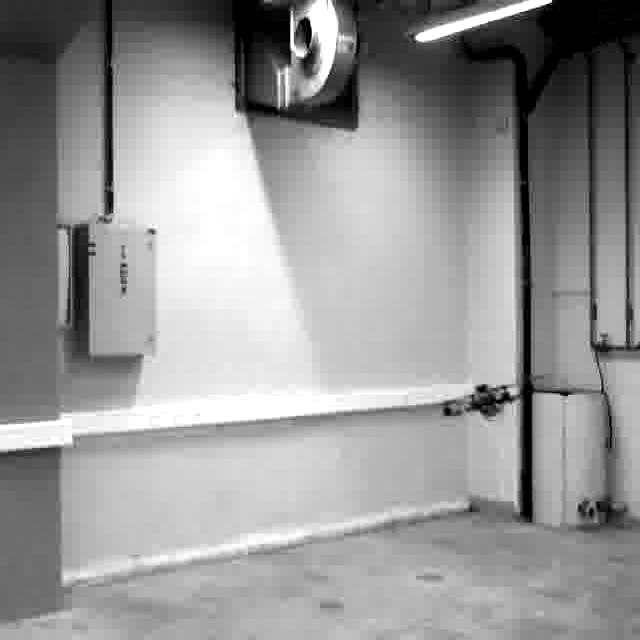drone: (438, 372, 527, 429)
